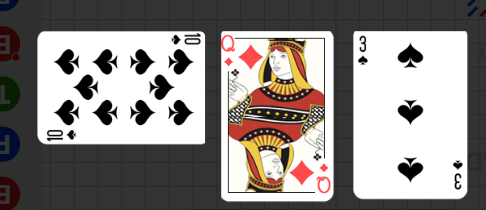10S: (45, 127, 79, 141), (169, 33, 202, 47)
3S: (356, 33, 370, 67)
QD: (234, 31, 278, 78), (301, 152, 345, 198)
